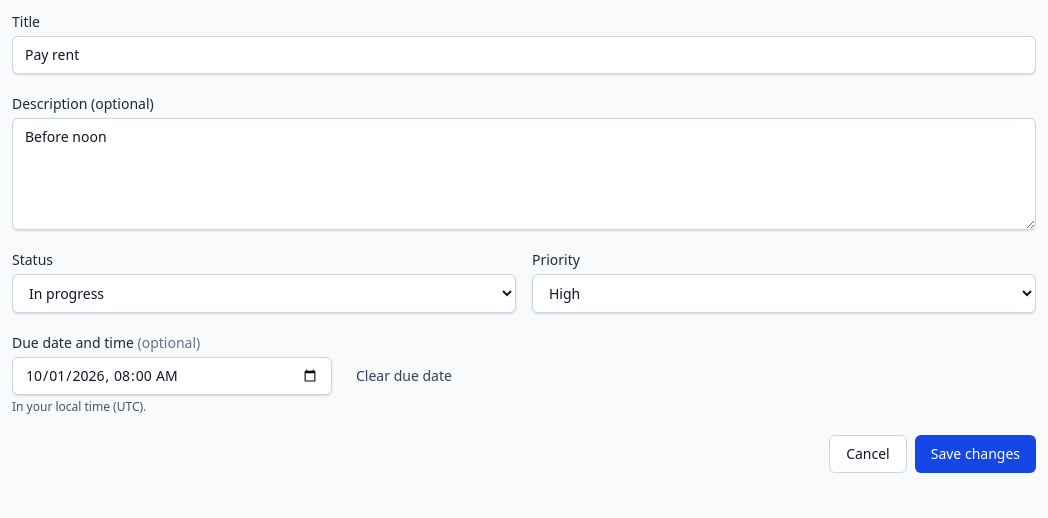
Test case: TaskForm: edit › rejects changing the due date to a different past instant
Replace the text in the field labelled "Due date and time (optional)" with "2026-10-02T10:00" at coordinates (172, 376), box [12, 357, 332, 395]
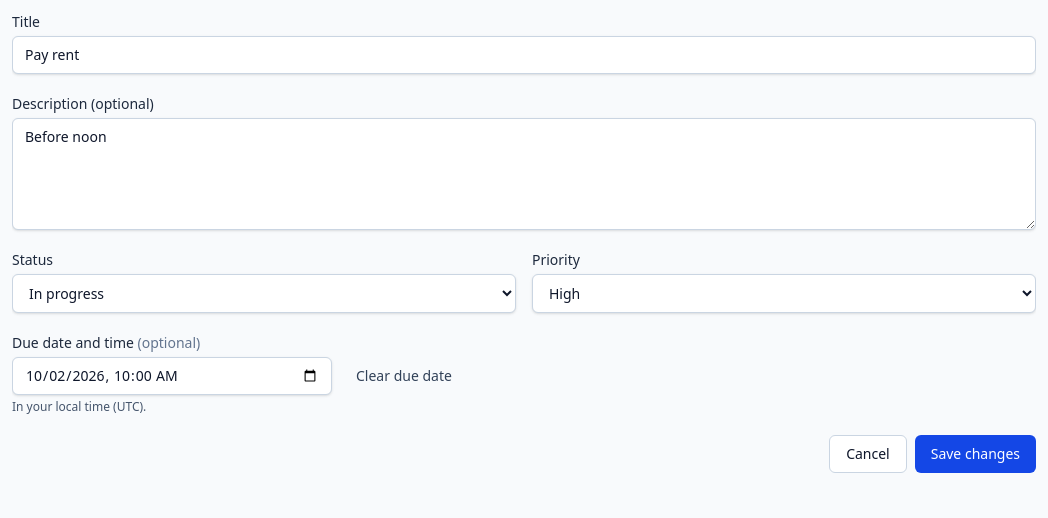
Click the button "Save changes" at coordinates (975, 454), box [915, 435, 1036, 473]
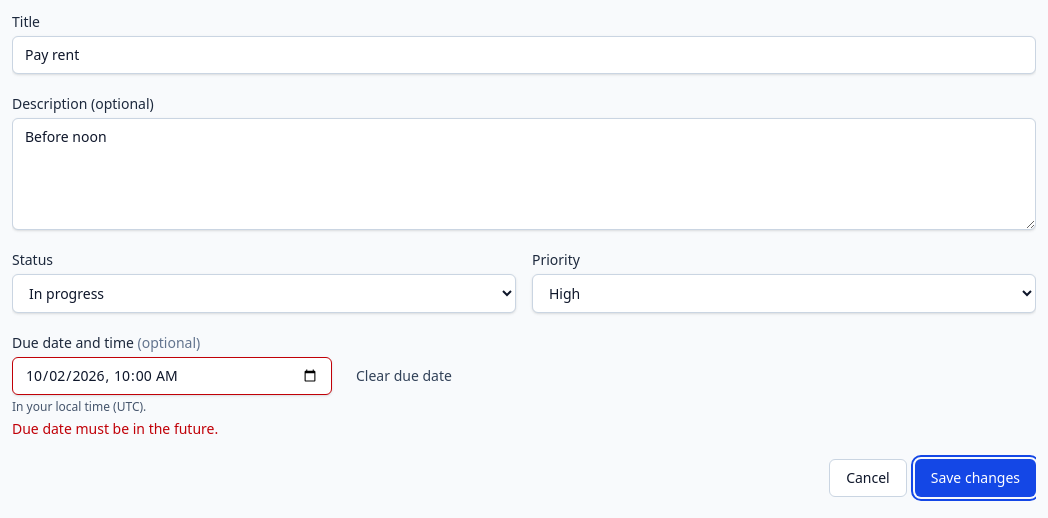
Check: the text "Due date must be in the future." is shown, box [12, 419, 218, 438]
